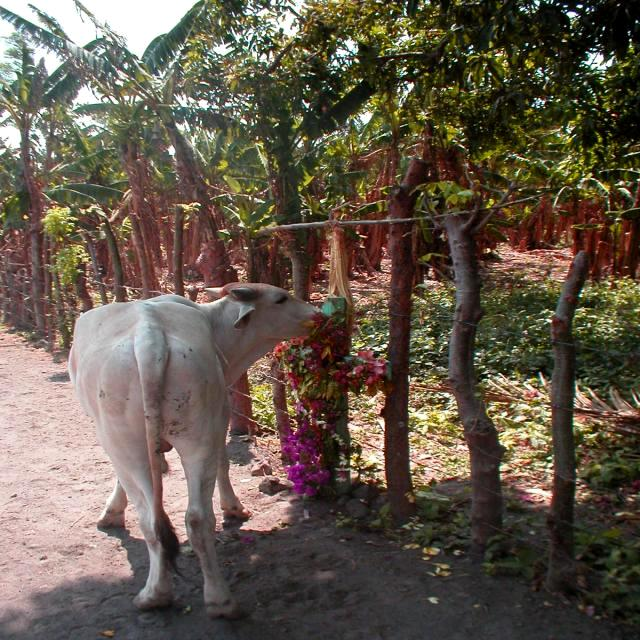COW: (68, 282, 315, 618)
